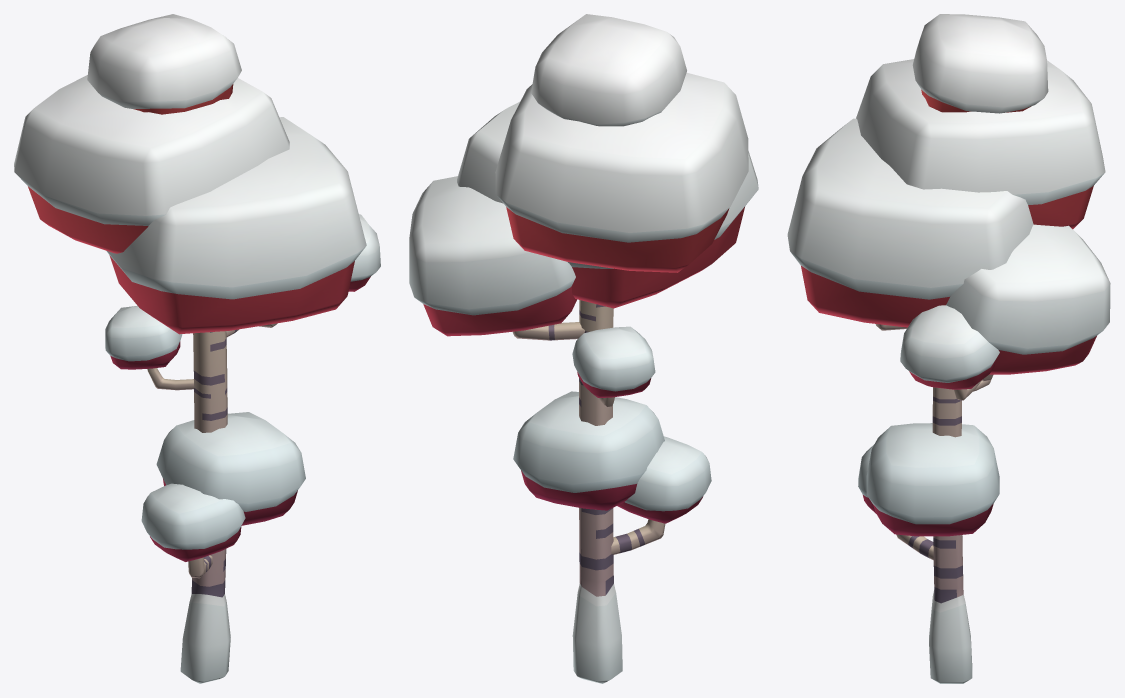
File: birch_tree_SC_02_snow.fbx
3 renders of one model, left to right at view 1: azimuth 30°, elevation 25°; view 2: azimuth 150°, elevation 25°; view 3: azimuth 270°, elevation 25°, orthographic. The views are drawn at different scales.
Parts seen in each view (by area): view 1: birch_tree_SC_02_snow; view 2: birch_tree_SC_02_snow; view 3: birch_tree_SC_02_snow.
Part boxes in pixels (x1,y1,x2,y2): birch_tree_SC_02_snow: (14, 14, 380, 683); birch_tree_SC_02_snow: (409, 14, 758, 683); birch_tree_SC_02_snow: (787, 14, 1110, 683).
Size of the model in its own units: 628 by 1218 by 556.
Materials: 1 (1 with a texture image).
